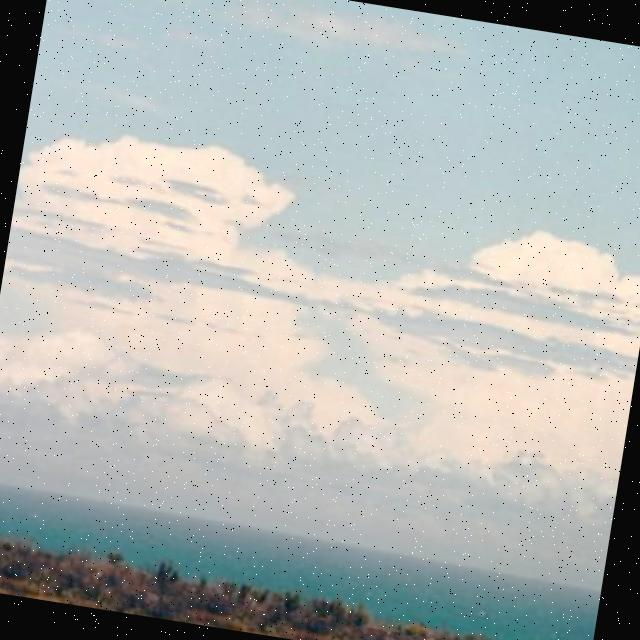Cb: (1, 63, 640, 560)
